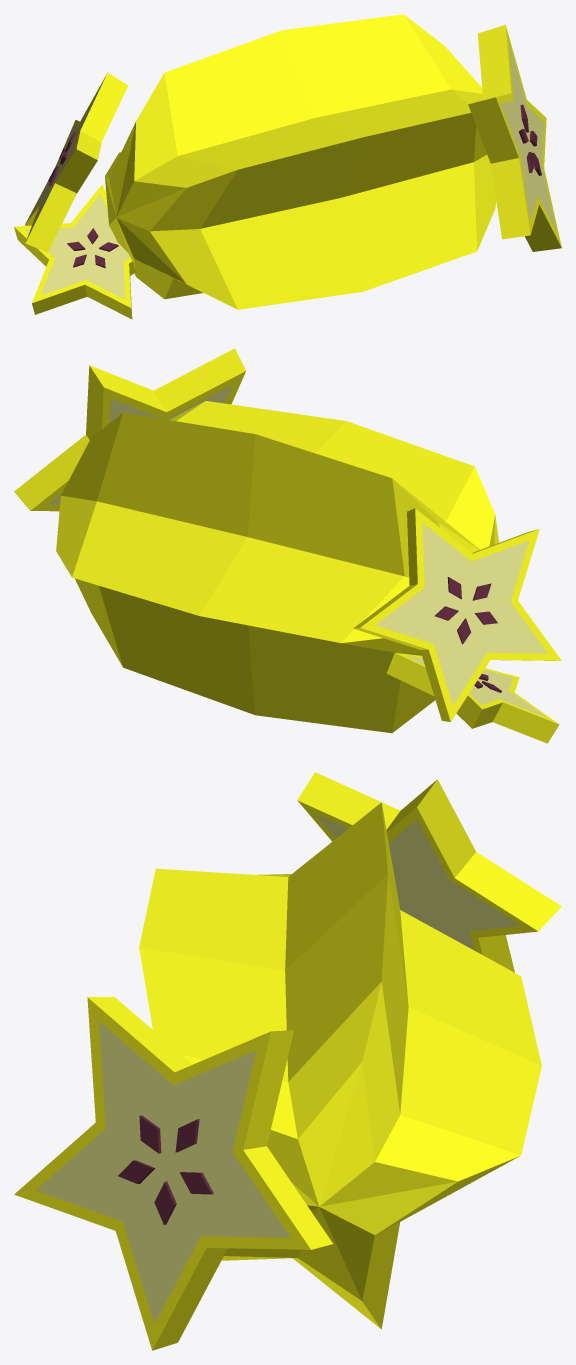
Rendered from carambola.fbx.
3 renders of one model, top to bottom at view 1: azimuth 30°, elevation 25°; view 2: azimuth 150°, elevation 25°; view 3: azimuth 270°, elevation 25°, orthographic. The views are drawn at different scales.
Visible parts, largest first — view 1: carambola; view 2: carambola; view 3: carambola.
Part boxes in pixels (x1,y1,x2,y2): carambola: (14,14,561,319); carambola: (14,348,561,743); carambola: (14,772,561,1350).
Size of the model in its own units: 57.99 by 27.47 by 35.53.
